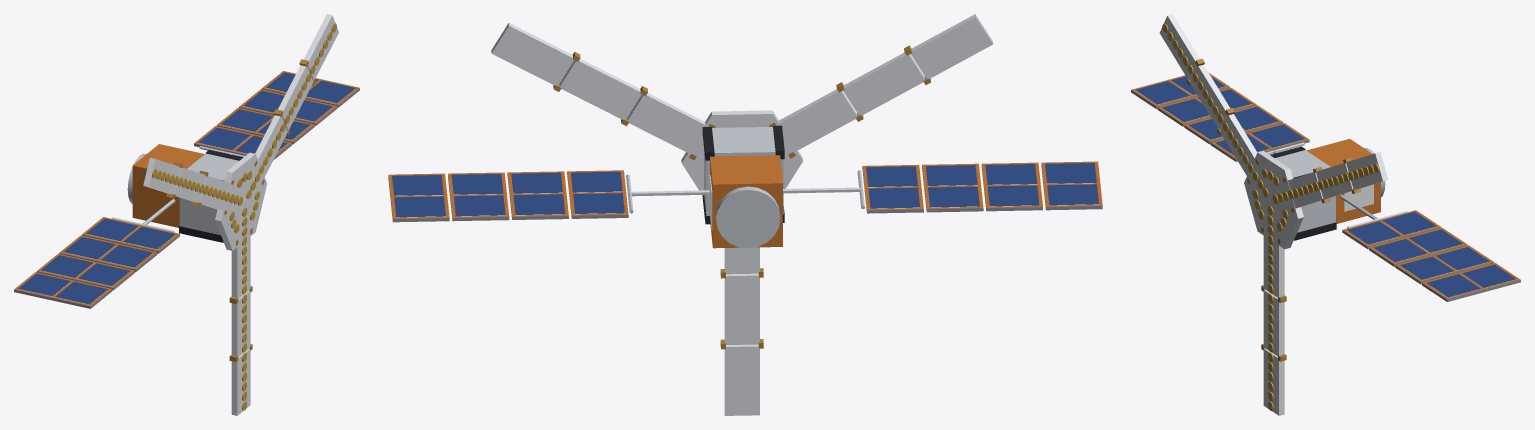
The model's file is smos.glb.
The picture shows the model from 3 angles, left to right: view 1: azimuth 30°, elevation 25°; view 2: azimuth 150°, elevation 25°; view 3: azimuth 270°, elevation 25°; orthographic projection. The views are drawn at different scales.
Parts seen in each view (by area): view 1: body, solar-panel, foil; view 2: body, solar-panel, foil; view 3: body, solar-panel, foil.
Part boxes in pixels (<box>): body: <box>14,14,359,415</box>; solar-panel: <box>18,72,355,304</box>; foil: <box>132,144,204,227</box>; body: <box>388,14,1102,415</box>; solar-panel: <box>392,163,1098,217</box>; foil: <box>710,155,782,248</box>; body: <box>1131,14,1520,415</box>; solar-panel: <box>1135,76,1516,297</box>; foil: <box>1306,139,1380,223</box>.
Size of the model in its own units: 9.34 by 6.19 by 6.7.
